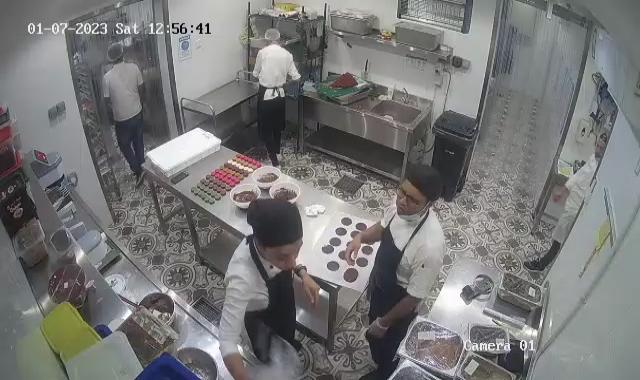hairnet: (106, 43, 124, 69), (263, 26, 282, 44)
no_hairnet: (246, 196, 303, 253), (402, 162, 444, 203)
